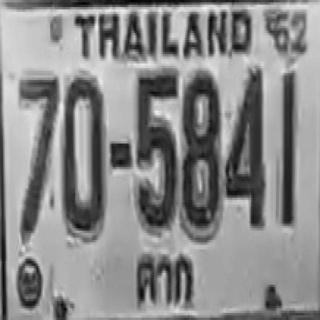N00: (62, 75, 105, 233)
N01: (280, 70, 294, 224)
N04: (225, 66, 264, 228)
N05: (136, 72, 177, 229)
N07: (18, 74, 59, 236)
N08: (181, 70, 219, 230)
P69: (132, 248, 194, 307)
